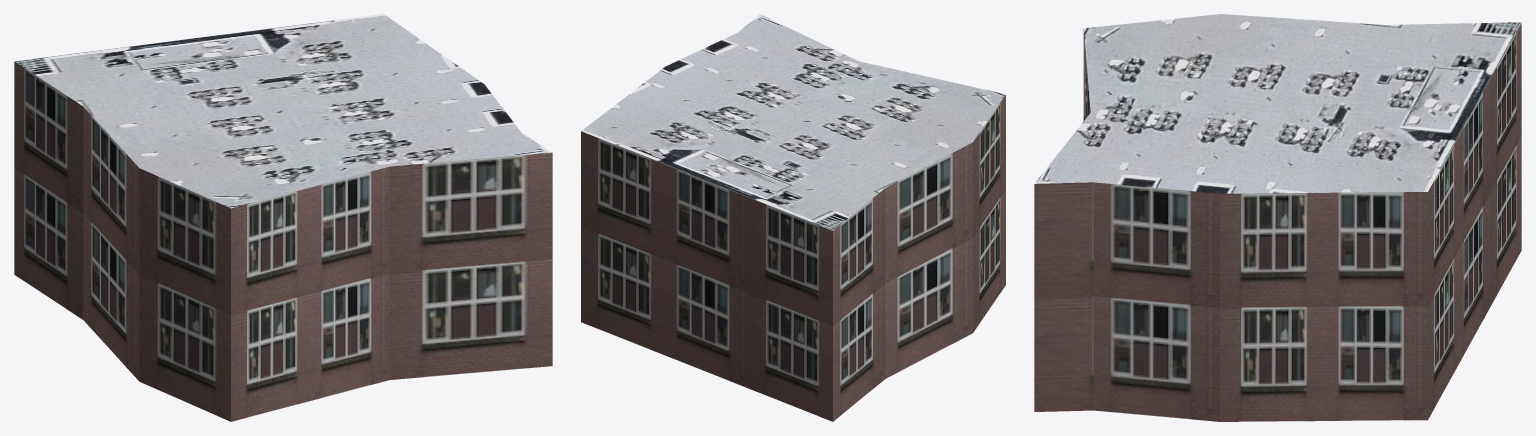
Rendered from ResTex__2657.fbx.
The picture shows the model from 3 angles, left to right: view 1: azimuth 30°, elevation 25°; view 2: azimuth 150°, elevation 25°; view 3: azimuth 270°, elevation 25°; orthographic projection. The views are drawn at different scales.
Parts seen in each view (by area): view 1: CityEngineMaterial_12_m, CityEngineMaterial_4_m; view 2: CityEngineMaterial_12_m, CityEngineMaterial_4_m; view 3: CityEngineMaterial_12_m, CityEngineMaterial_4_m.
Boxes of the visible parts, left/top/right/bottom form: CityEngineMaterial_12_m: left=14, top=61, right=552, bottom=421; CityEngineMaterial_4_m: left=15, top=14, right=551, bottom=208; CityEngineMaterial_12_m: left=581, top=94, right=1005, bottom=421; CityEngineMaterial_4_m: left=581, top=14, right=1005, bottom=230; CityEngineMaterial_12_m: left=1034, top=23, right=1521, bottom=421; CityEngineMaterial_4_m: left=1034, top=14, right=1521, bottom=193.
Bounding box in the file's own units: 10.14 × 6 × 11.62.
2 materials, 2 textured.
